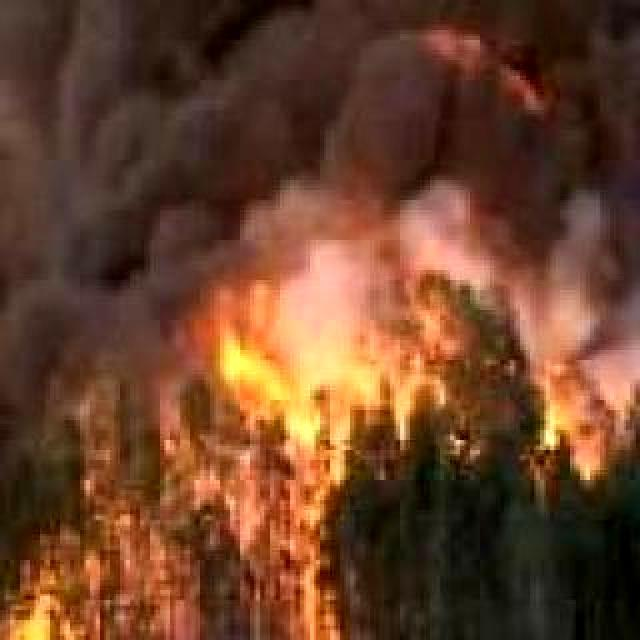fire: (214, 308, 376, 640), (500, 266, 632, 456), (0, 550, 114, 640)
smoke: (0, 0, 640, 442)
